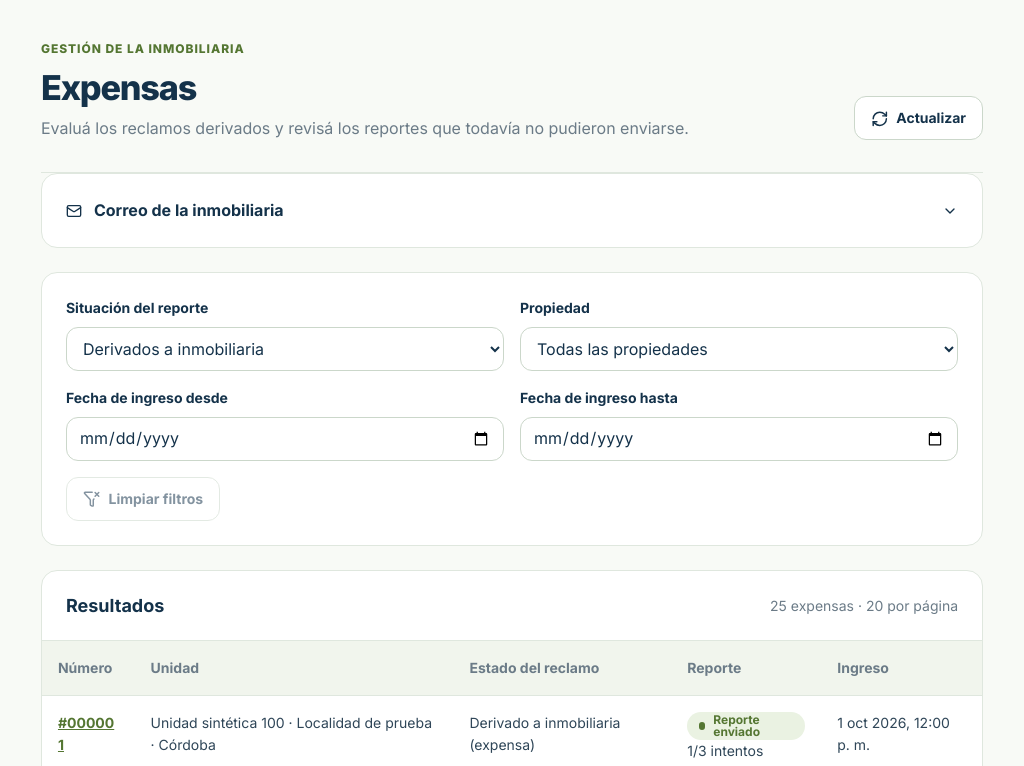
Test case: HU14 expensas › permite configurar el contacto sin confundirlo con el remitente
Click the heading "Correo de la inmobiliaria": (189, 210) [66,198,958,223]
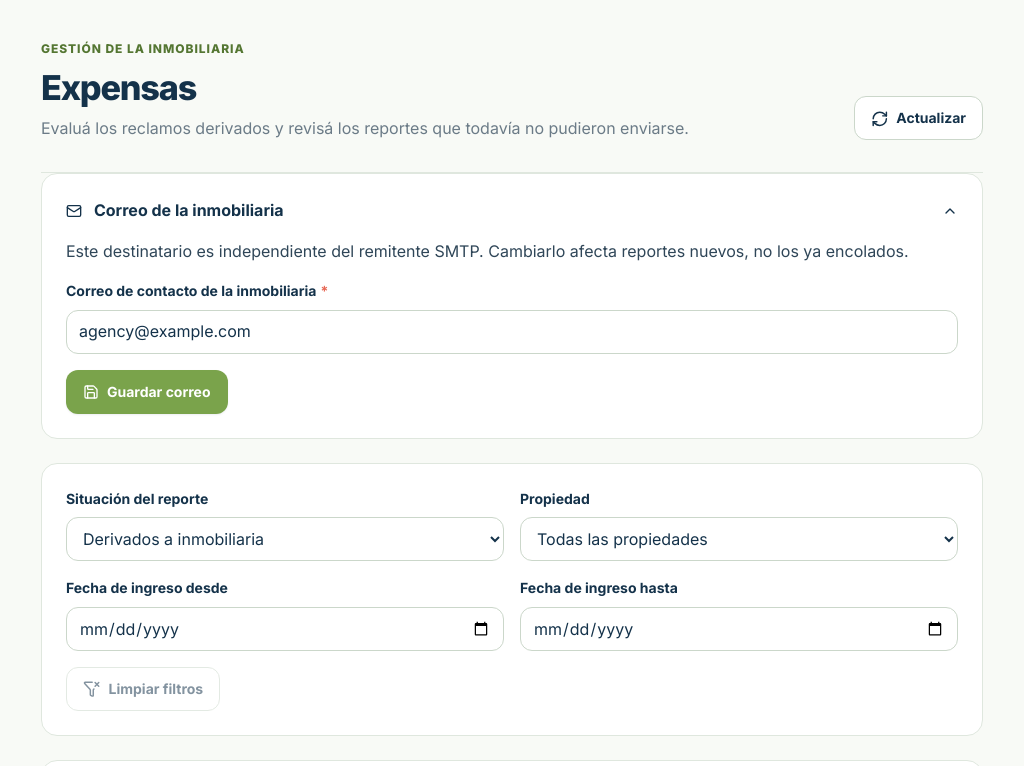
Replace the text in the field labelled "Correo de contacto de la inmobiliaria" with "other@example.com": (512, 332) [66,310,958,354]
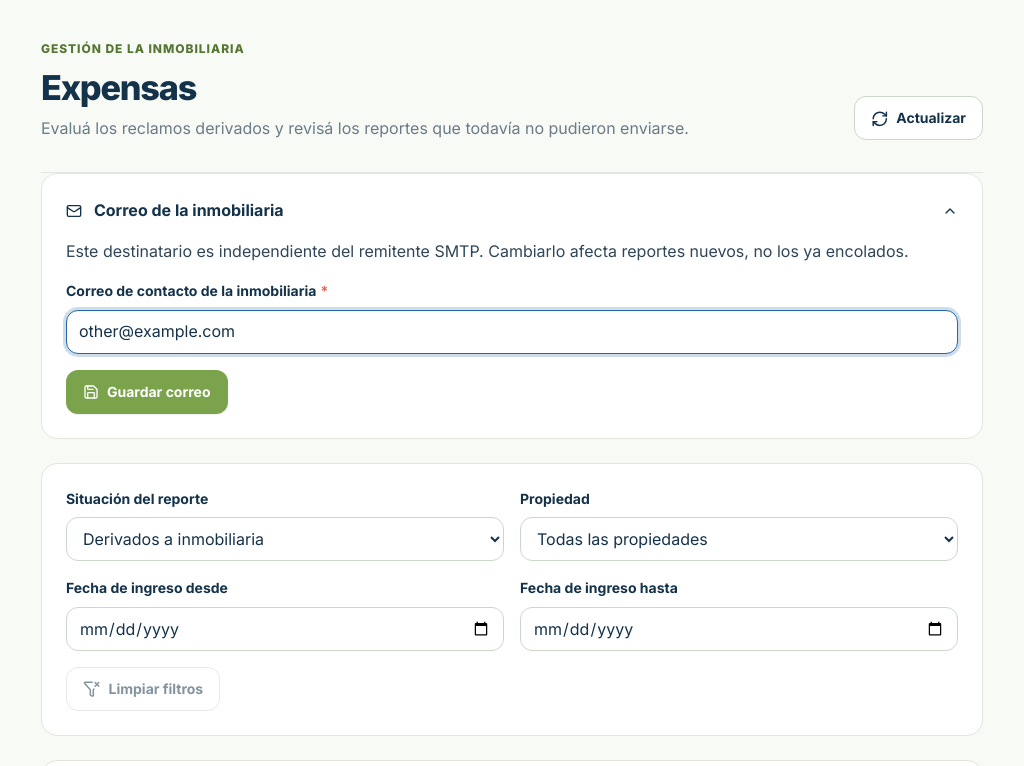
Click the button "Guardar correo": (147, 392) [66,370,228,414]
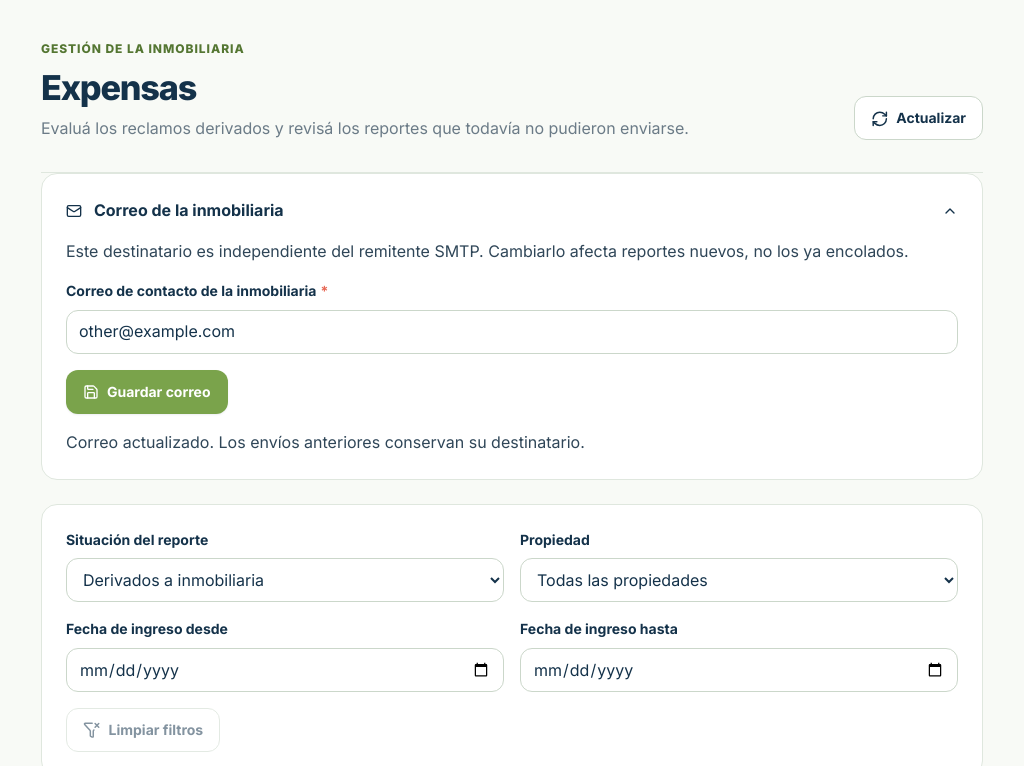
Expected: the text "Correo actualizado. Los envíos anteriores conservan su destinatario." is shown, [66,432,585,452]
